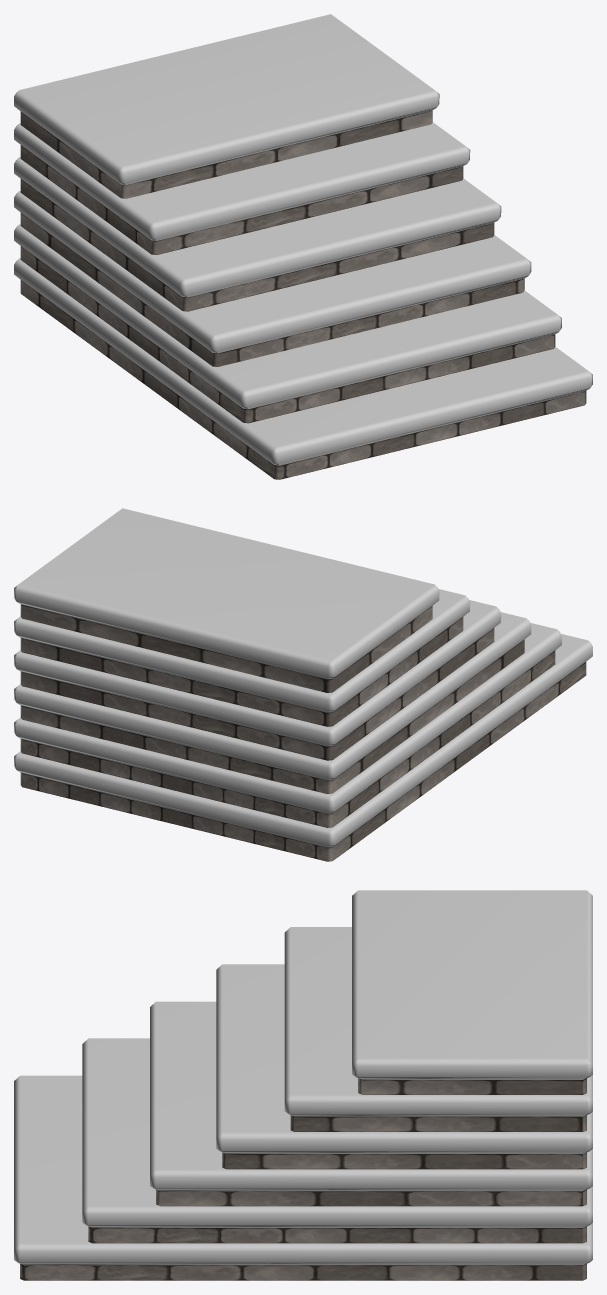
Rendered from StaircaseMedium.fbx.
3 renders of one model, top to bottom at view 1: azimuth 30°, elevation 25°; view 2: azimuth 150°, elevation 25°; view 3: azimuth 270°, elevation 25°, orthographic. The views are drawn at different scales.
Visible parts, largest first — view 1: Mesh; view 2: Mesh; view 3: Mesh.
Part boxes in pixels (x1,y1,x2,y2): Mesh: (14, 14, 592, 479); Mesh: (14, 508, 592, 861); Mesh: (14, 890, 592, 1280).
Bounding box in the file's own units: 197 × 118 × 279.
2 materials, 1 textured.
